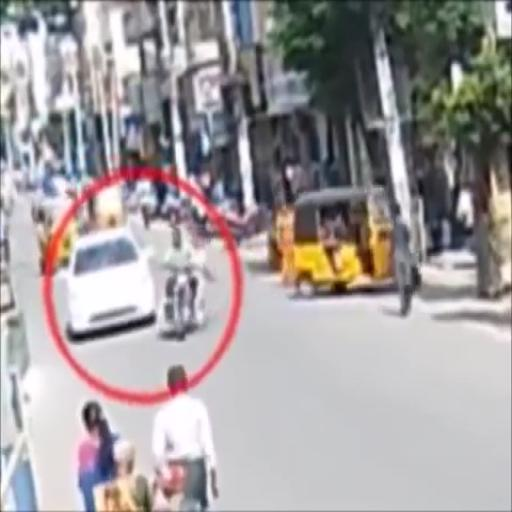小汽车: (292, 190, 398, 296), (67, 223, 156, 342)
自行车: (163, 232, 206, 343)
